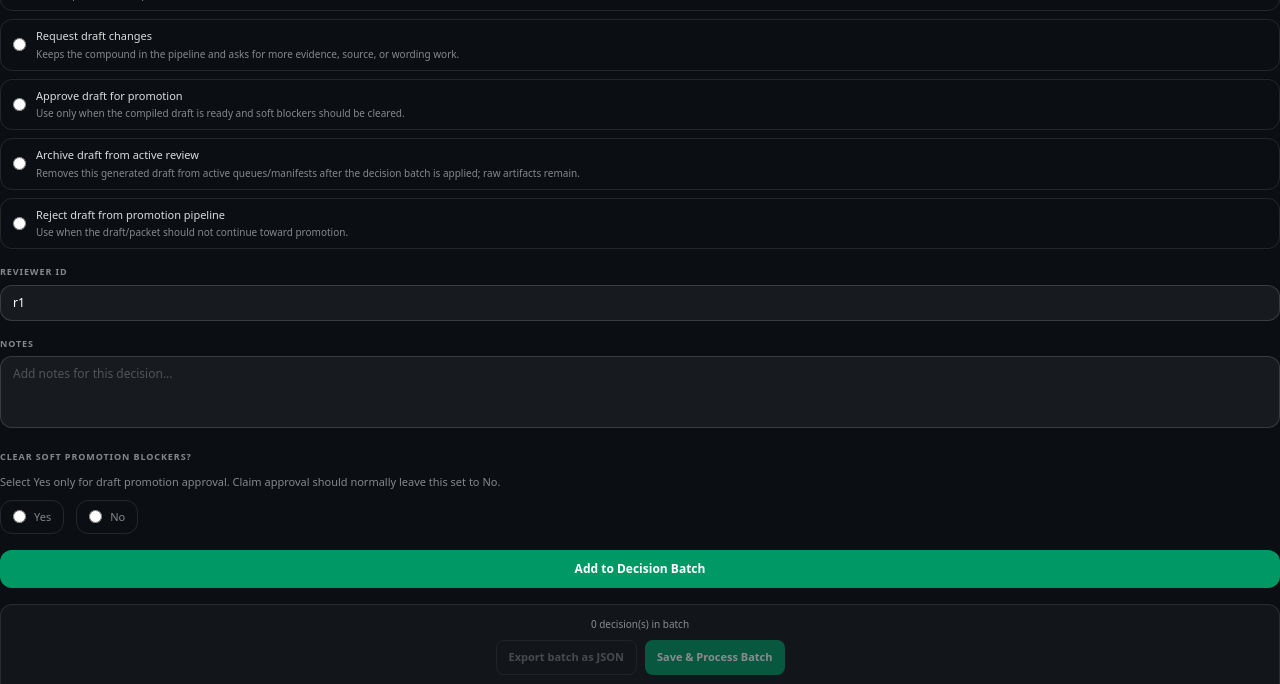
Test case: ReviewDecisionForm — review-required compound › blocks submit without selecting a decision
The width and height of the screenshot is (1280, 684).
(page scrolled)
Click the button "Add to Decision Batch" at (640, 569), box x1=0 y1=550 x2=1279 y2=588
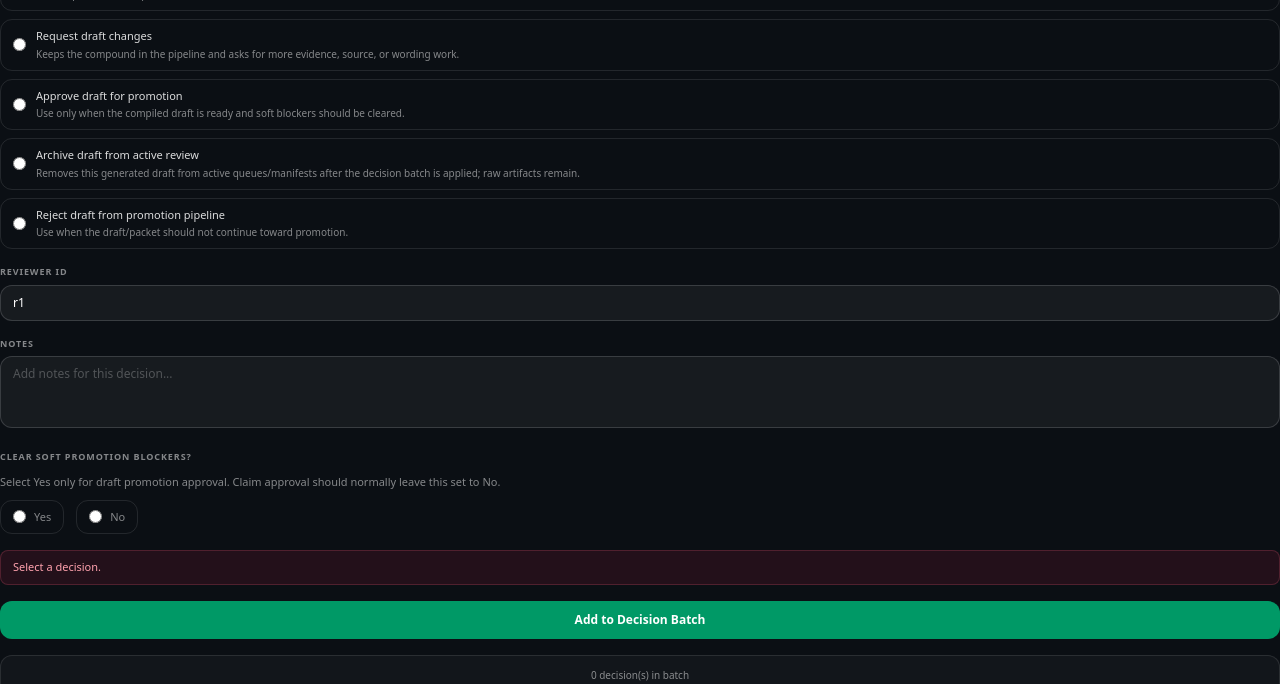
Expected: the text "Select a decision." is shown, x1=0 y1=550 x2=1279 y2=584
